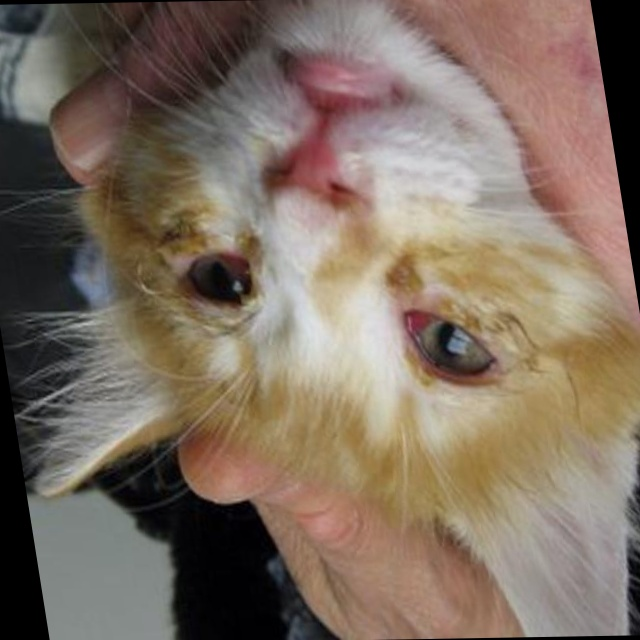eye_infection: (398, 293, 508, 385), (174, 244, 261, 312)
